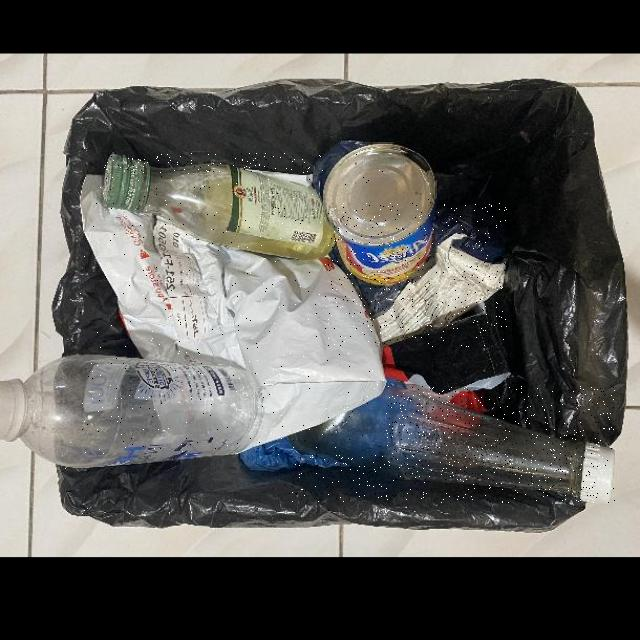glass: (286, 386, 615, 503), (103, 153, 345, 260)
metal: (324, 143, 436, 285)
plastic: (79, 173, 386, 454), (329, 203, 507, 347)
